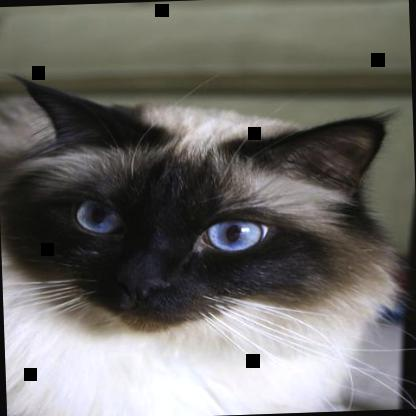cat: (0, 60, 407, 415)
